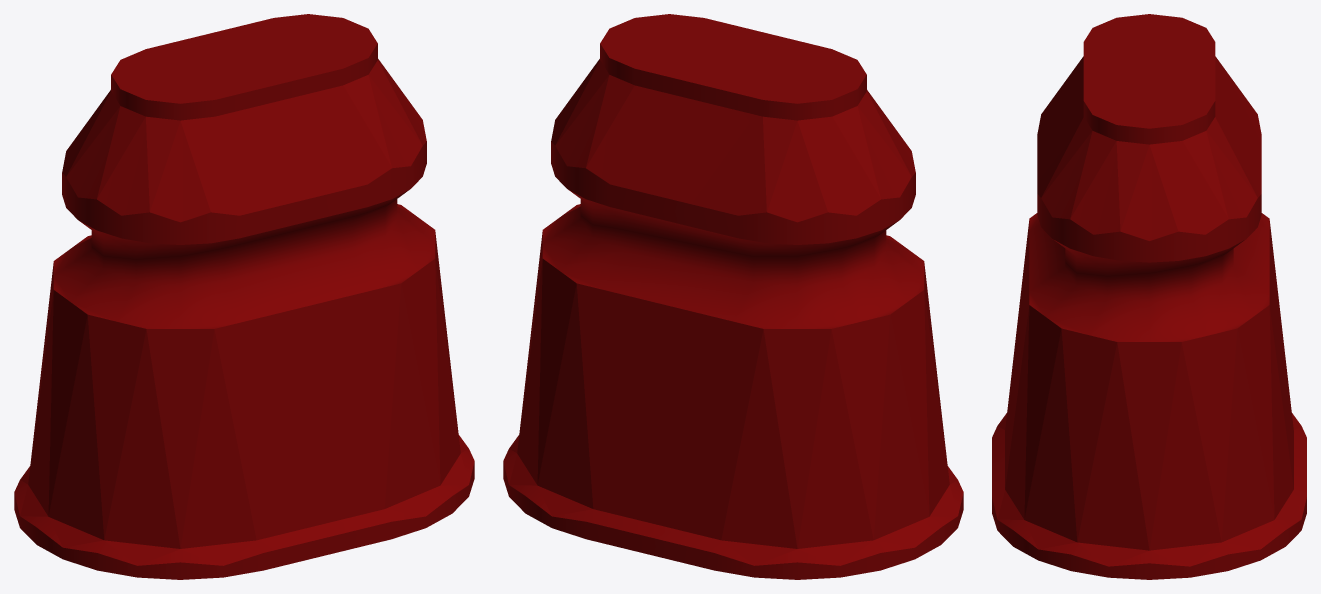
The model's file is PegPlasticT8Twin.fbx.
3 views of the same model, side by side, from view 1: azimuth 30°, elevation 25°; view 2: azimuth 150°, elevation 25°; view 3: azimuth 270°, elevation 25° (orthographic). The views are drawn at different scales.
Visible parts, largest first — view 1: PegPlasticT8Twin; view 2: PegPlasticT8Twin; view 3: PegPlasticT8Twin.
Boxes of the visible parts, box(x1,y1,x2,y2) form: PegPlasticT8Twin: box(14, 14, 474, 579); PegPlasticT8Twin: box(503, 14, 963, 579); PegPlasticT8Twin: box(992, 14, 1306, 579).
Bounding box in the file's own units: 2.67 × 2.67 × 1.85.
